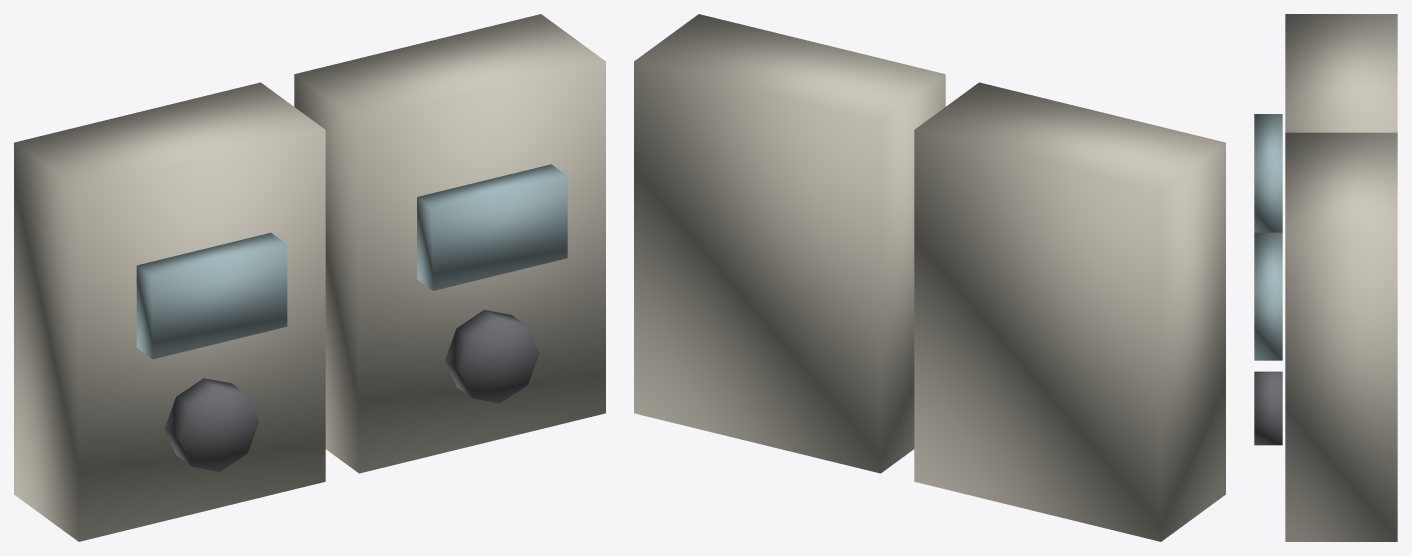
The model's file is wall_thermostat__cluster.glb.
3 views of the same model, side by side, from view 1: azimuth 30°, elevation 25°; view 2: azimuth 150°, elevation 25°; view 3: azimuth 270°, elevation 25° (orthographic). The views are drawn at different scales.
Parts seen in each view (by area): view 1: world; view 2: world; view 3: world.
Boxes of the visible parts, x1,y1,x2,y2 form: world: (14, 14, 605, 541); world: (634, 14, 1225, 541); world: (1254, 14, 1397, 541).
Bounding box in the file's own units: 0.47 × 0.3 × 0.1275.
